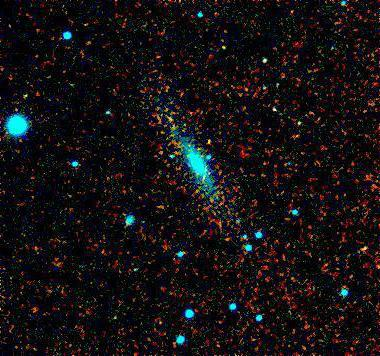star: (191, 122, 221, 152)
